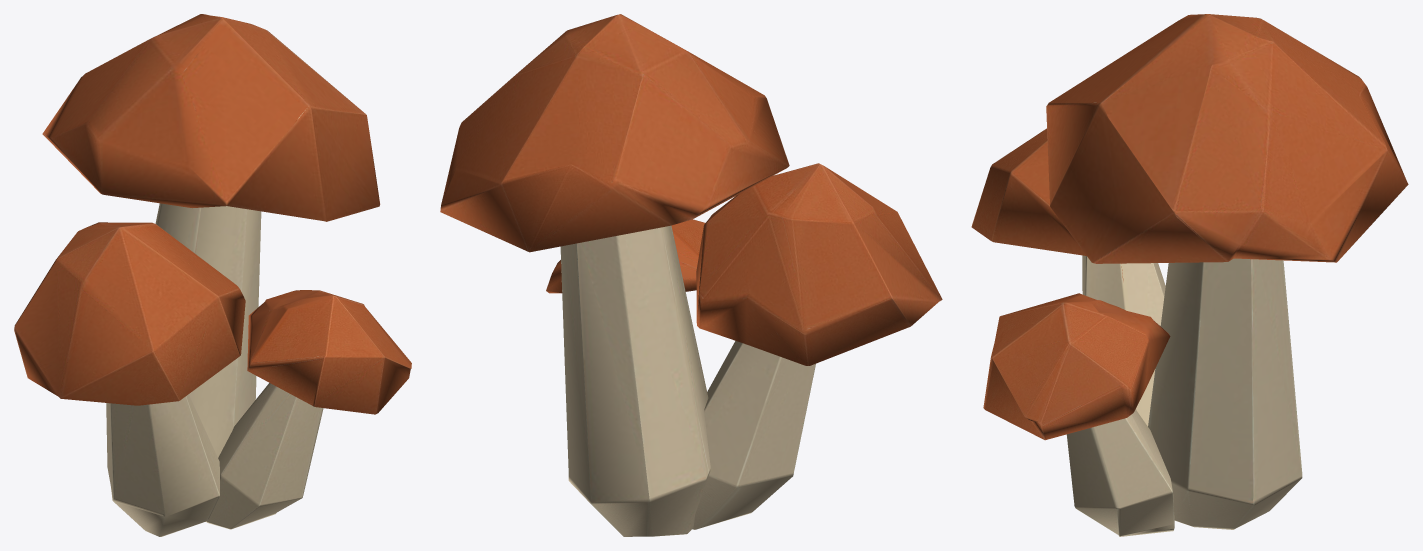
File: AW-MUSHROOM-001-v0.2.glb
The picture shows the model from 3 angles, left to right: view 1: azimuth 30°, elevation 25°; view 2: azimuth 150°, elevation 25°; view 3: azimuth 270°, elevation 25°; orthographic projection. The views are drawn at different scales.
Visible parts, largest first — view 1: AW-MUSHROOM-001_meter_ground_pivot; view 2: AW-MUSHROOM-001_meter_ground_pivot; view 3: AW-MUSHROOM-001_meter_ground_pivot.
Boxes of the visible parts, x1,y1,x2,y2 form: AW-MUSHROOM-001_meter_ground_pivot: (14,14,411,536); AW-MUSHROOM-001_meter_ground_pivot: (440,14,942,536); AW-MUSHROOM-001_meter_ground_pivot: (971,14,1408,536).
Size of the model in its own units: 0.5028 by 0.6 by 0.4601.
Materials: 1 (1 with a texture image).
